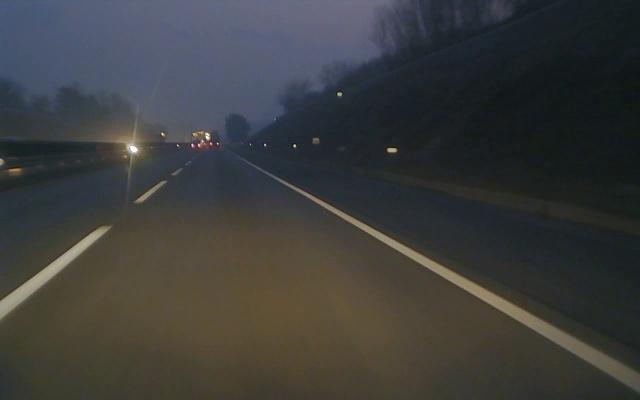lane: (240, 158, 639, 393), (0, 156, 201, 321)
